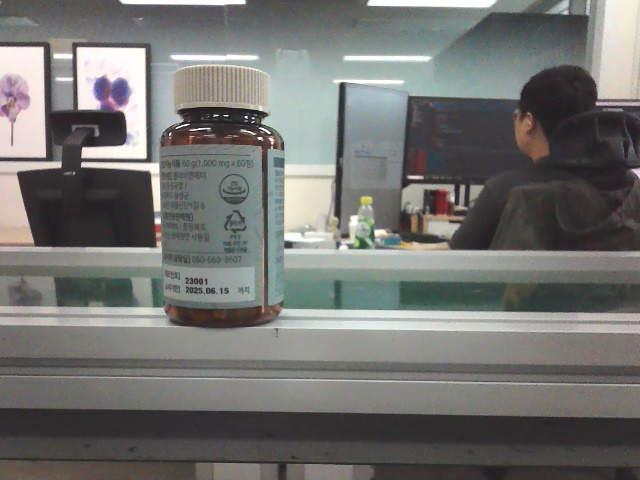labeled: (156, 61, 288, 329)
